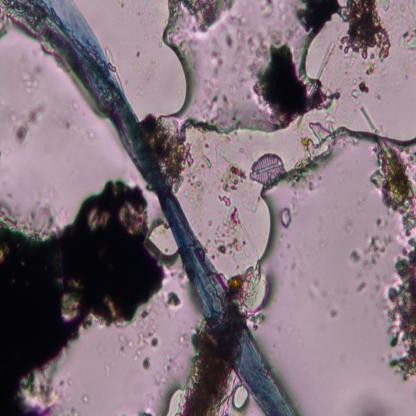Air bubble: (144, 213, 182, 265), (230, 383, 251, 412)
Background material: (0, 178, 173, 414), (364, 139, 416, 384), (174, 304, 245, 414), (255, 38, 337, 124), (298, 1, 394, 64), (209, 162, 259, 260), (145, 117, 193, 183), (180, 1, 242, 34), (203, 94, 242, 131), (15, 100, 47, 142), (132, 327, 159, 372), (204, 36, 225, 79), (23, 56, 48, 92), (134, 47, 158, 84), (278, 206, 300, 236), (342, 237, 362, 270), (396, 25, 416, 56), (350, 79, 371, 100), (222, 28, 237, 56), (166, 289, 181, 308), (84, 126, 98, 142), (65, 93, 78, 108), (326, 302, 336, 318)
Cotton: (8, 1, 296, 415)
Diatom: (249, 152, 285, 184)
